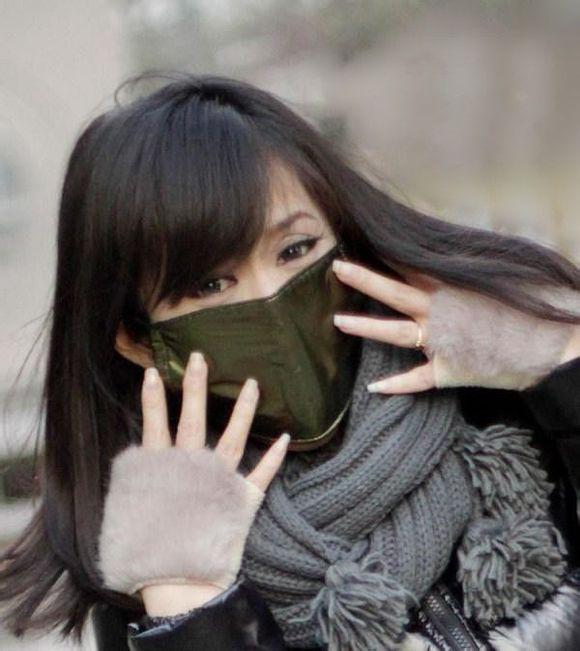OK: (158, 201, 362, 405)
